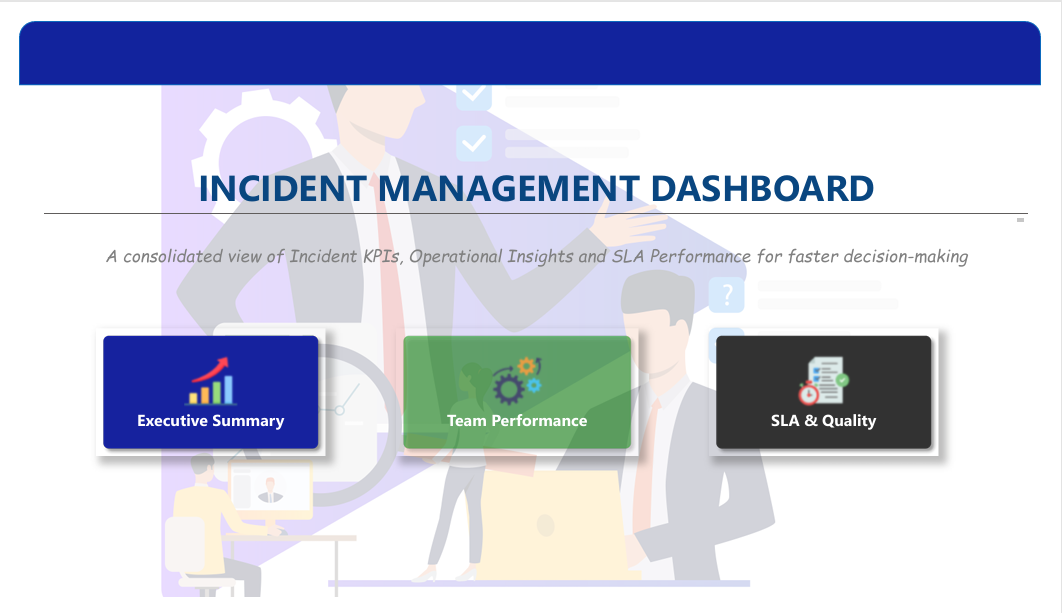

This screenshot's page, from the dashboard's own definition file:
{"tool":"powerbi","page":{"name":"Home","canvas":[1280,720],"ordinal":0},"visuals":[{"type":"textbox","title":"INCIDENT MANAGEMENT DASHBOARD","box":[32,176,1232,80],"z":0},{"type":"textbox","box":[32,272,1232,64],"z":1000},{"type":"actionButton","box":[96,384,288,160],"z":2000},{"type":"actionButton","box":[472,384,304,160],"z":3000},{"type":"actionButton","box":[864,384,288,160],"z":4000},{"type":"shape","box":[0,0,1280,80],"z":5000}]}

Visuals, with their boxes in screenshot pixels (x1, y1, x2, y2), scaled from the page's 1280x720 canvas onto the 1062x613 screenshot:
"INCIDENT MANAGEMENT DASHBOARD" textbox: (left=27, top=150, right=1049, bottom=218)
textbox: (left=27, top=232, right=1049, bottom=286)
actionButton: (left=80, top=327, right=319, bottom=463)
actionButton: (left=392, top=327, right=644, bottom=463)
actionButton: (left=717, top=327, right=956, bottom=463)
shape: (left=0, top=0, right=1061, bottom=68)
